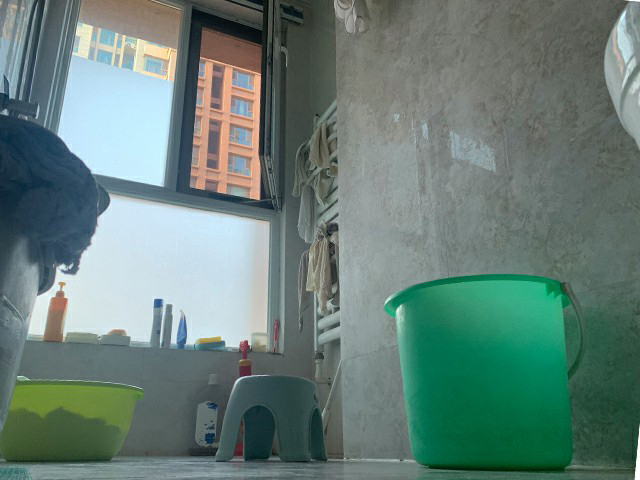stool: (213, 374, 328, 463)
